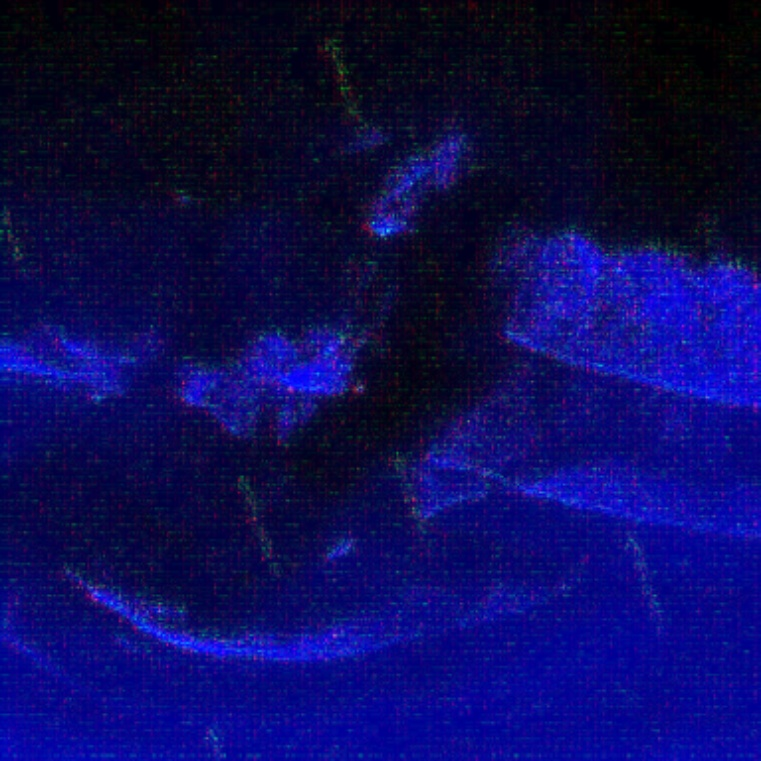rip_current: (264, 138, 549, 501)
